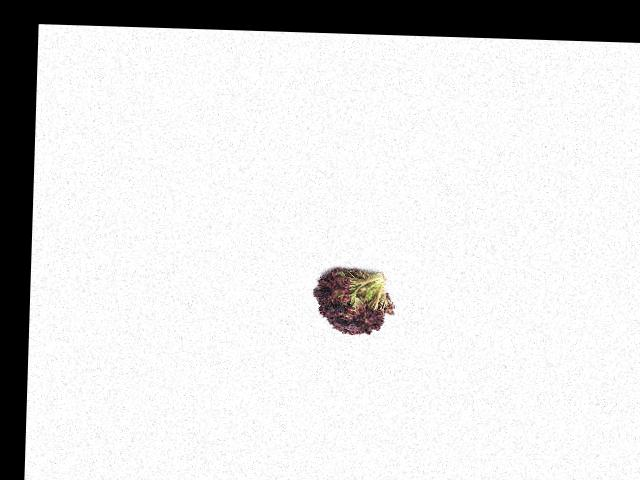lettuce: (308, 262, 391, 338)
